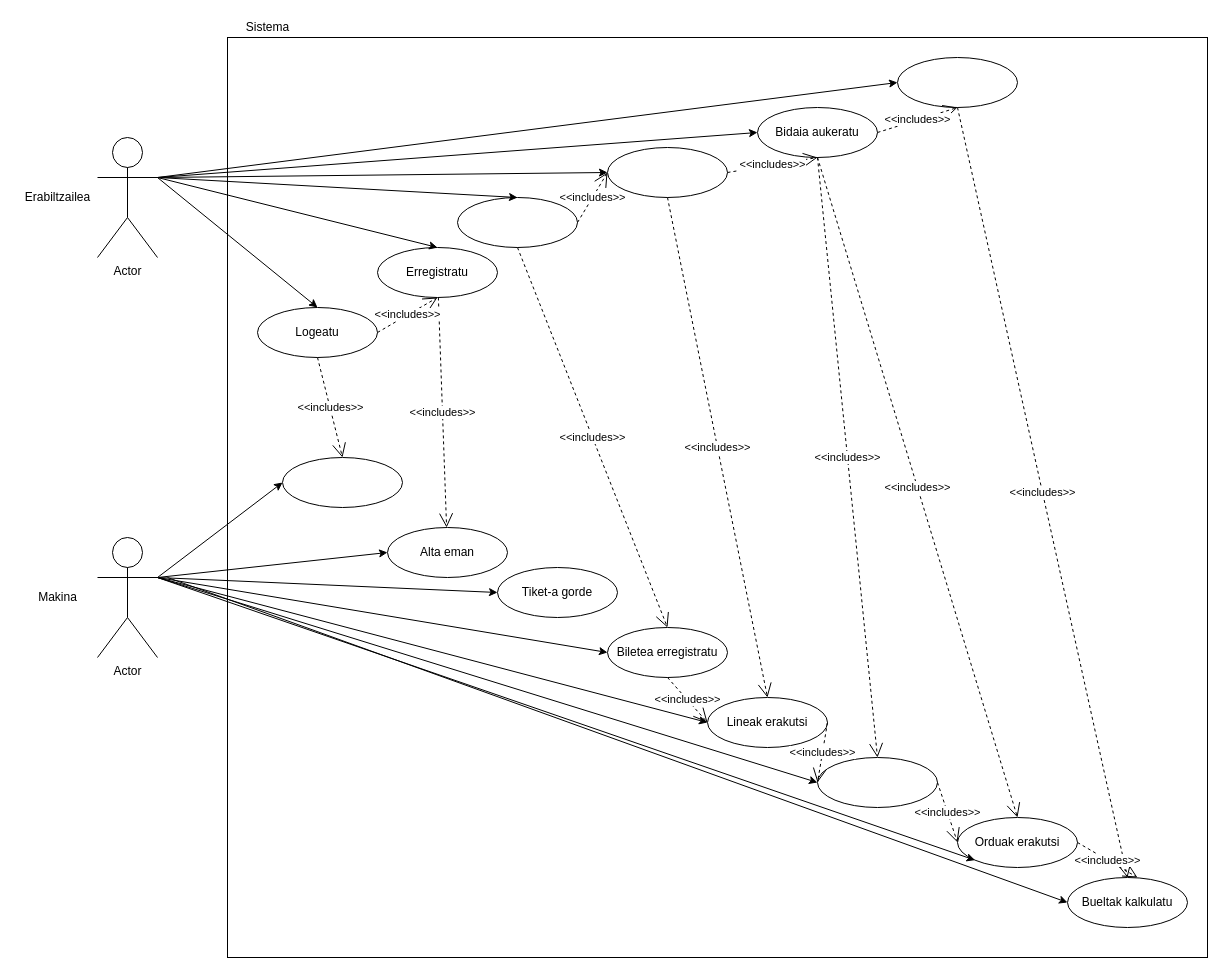
Some shapes in this 1225 by 975 pixel diagram are drawn without their labels. The centre of each missing label's shape, as x and y in pixels:
Biletea erosi: point (517, 222)
Geltokiak erakutsi: point (877, 782)
Konprobazioa: point (342, 482)
Linea aukeratu: point (667, 172)
Ordaindu: point (957, 82)
